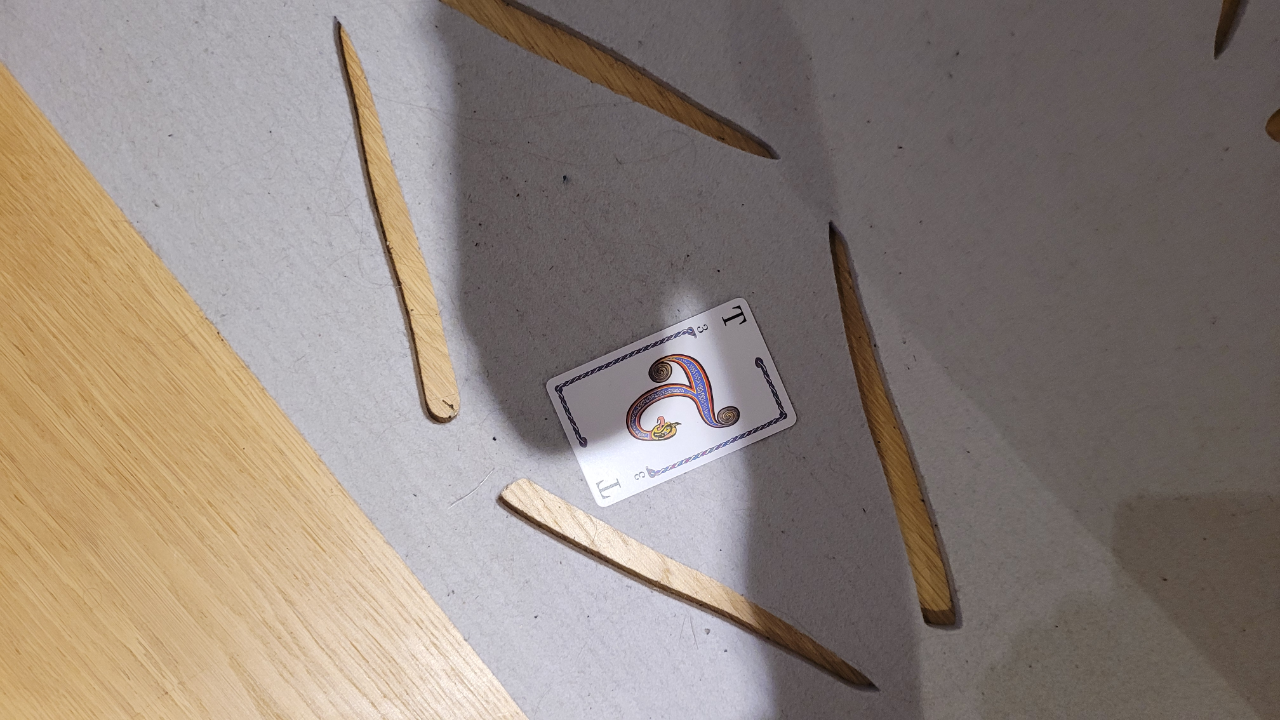quiddler_card: (537, 279, 813, 513)
